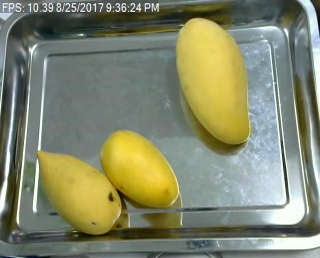Mango: (173, 9, 259, 149), (30, 143, 124, 237), (94, 129, 189, 214)
